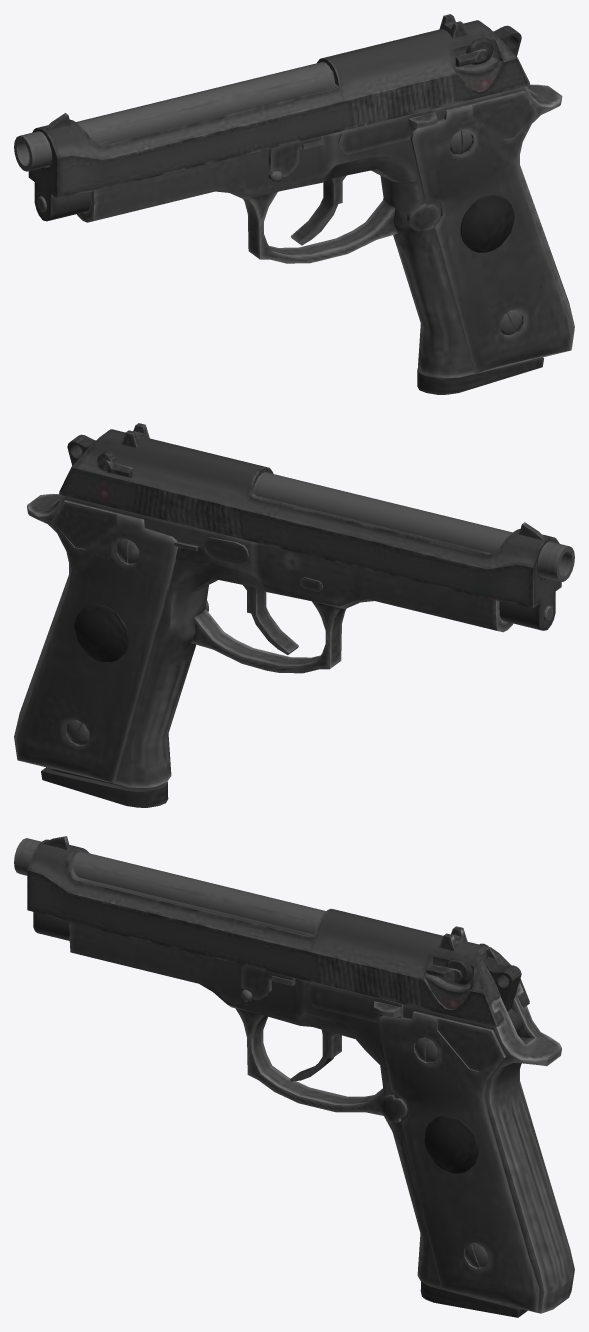
Rendered from ppl_beretta.glb.
The picture shows the model from 3 angles, top to bottom: view 1: azimuth 30°, elevation 25°; view 2: azimuth 150°, elevation 25°; view 3: azimuth 330°, elevation 25°; orthographic projection.
Parts seen in each view (by area): view 1: Plane.013; view 2: Plane.013; view 3: Plane.013.
Part boxes in pixels (x1,y1,x2,y2): Plane.013: (14, 14, 574, 394); Plane.013: (14, 423, 574, 807); Plane.013: (14, 836, 574, 1317).
Bounding box in the file's own units: 461 × 297 × 62.53.
2 materials, 2 textured.
